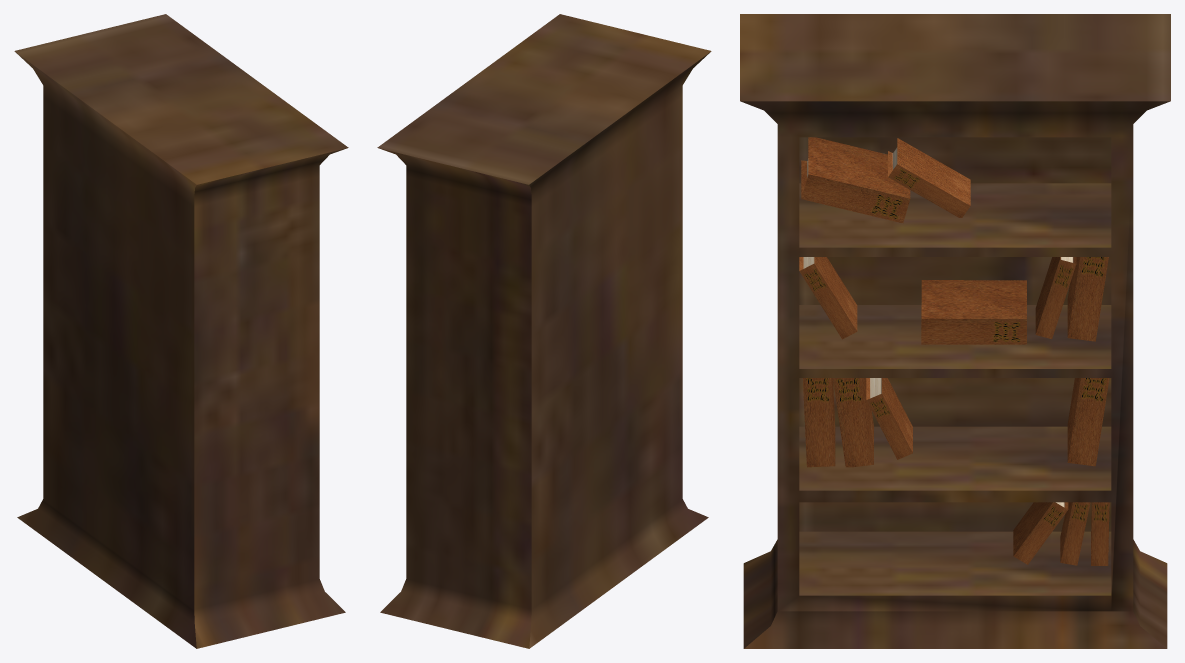
The model's file is obj_bookshelf_eae198.glb.
3 views of the same model, side by side, from view 1: azimuth 30°, elevation 25°; view 2: azimuth 150°, elevation 25°; view 3: azimuth 270°, elevation 25° (orthographic). The views are drawn at different scales.
Visible parts, largest first — view 1: obj_bookshelf_eae198; view 2: obj_bookshelf_eae198; view 3: obj_bookshelf_eae198.
Boxes of the visible parts, box(x1,y1,x2,y2) form: obj_bookshelf_eae198: box(14, 14, 348, 648); obj_bookshelf_eae198: box(377, 14, 711, 648); obj_bookshelf_eae198: box(740, 14, 1170, 648).
Bounding box in the file's own units: 0.6486 × 1.9 × 1.35.
2 materials, 2 textured.
